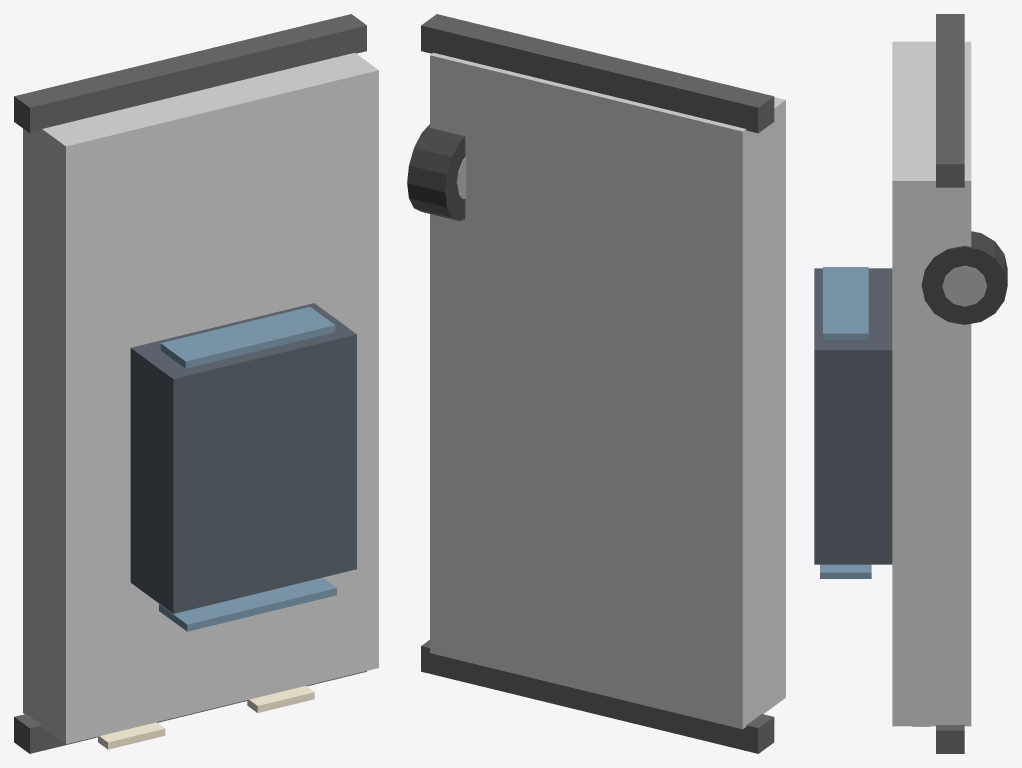
Rendered from vehicle_police_style_car.glb.
The picture shows the model from 3 angles, left to right: view 1: azimuth 30°, elevation 25°; view 2: azimuth 150°, elevation 25°; view 3: azimuth 270°, elevation 25°; orthographic projection. The views are drawn at different scales.
Parts seen in each view (by area): view 1: body, dark_cabin, rear_bumper, rear_window, front_window, front_bumper, headlight_L, headlight_R; view 2: body, rear_bumper, front_bumper, wheel_tire; view 3: body, dark_cabin, rear_bumper, wheel_tire, rear_window, wheel_hub, front_bumper, front_window.
Part boxes in pixels (x1,y1,x2,y2): body: [23, 52, 378, 744]; dark_cabin: [130, 303, 356, 613]; rear_bumper: [14, 14, 366, 133]; rear_window: [160, 307, 335, 368]; front_window: [159, 577, 336, 631]; front_bumper: [14, 671, 366, 753]; headlight_L: [98, 722, 165, 749]; headlight_R: [247, 686, 314, 712]; body: [430, 52, 785, 729]; rear_bumper: [421, 14, 774, 133]; front_bumper: [421, 640, 774, 753]; wheel_tire: [407, 124, 465, 220]; body: [892, 41, 971, 726]; dark_cabin: [814, 268, 892, 564]; rear_bumper: [936, 14, 964, 187]; wheel_tire: [921, 231, 1007, 324]; rear_window: [823, 267, 868, 339]; wheel_hub: [942, 265, 986, 306]; front_bumper: [936, 725, 964, 753]; front_window: [820, 564, 871, 578].
Size of the model in its own units: 2.48 by 4.56 by 1.35.
